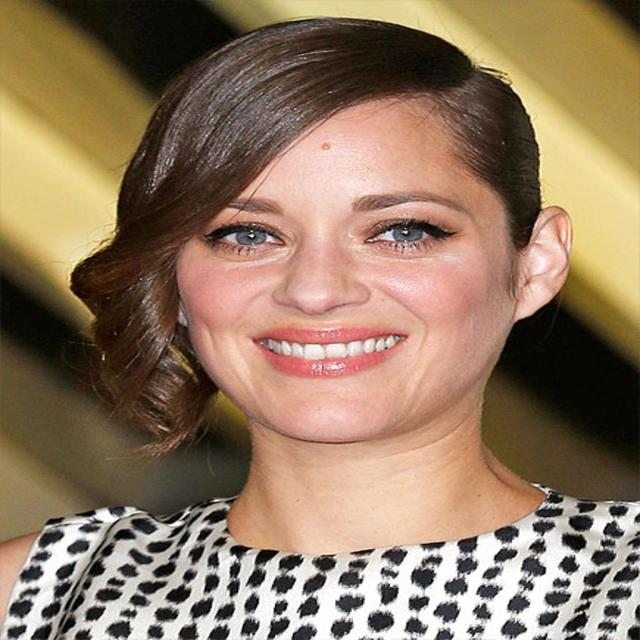Face: (133, 92, 567, 433)
